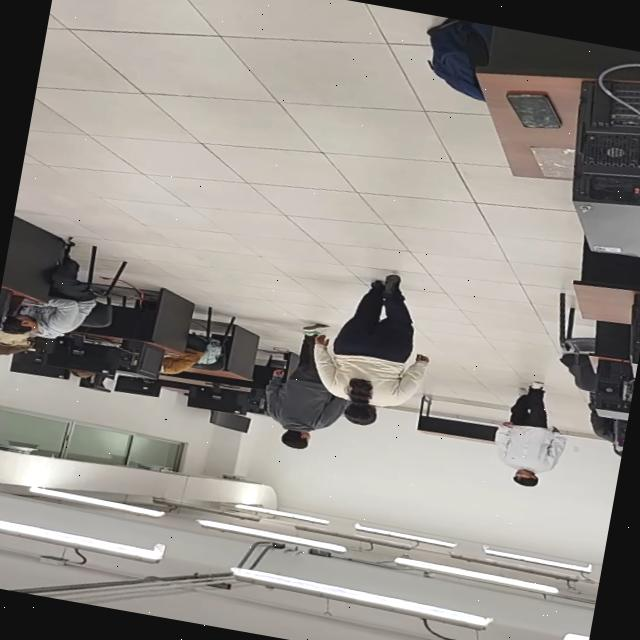Persona: (307, 261, 442, 438), (259, 317, 353, 457), (479, 374, 578, 494)
